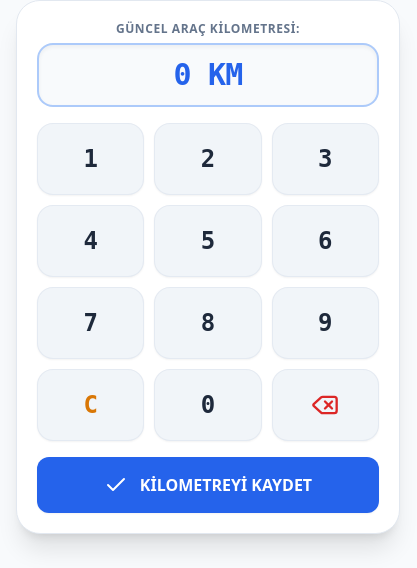
Test: HiNumpad › handles key presses and updates display
Press '5', then '0', then '0'
Step 1. Click the button "5" → (208, 241), box [154, 205, 262, 277]
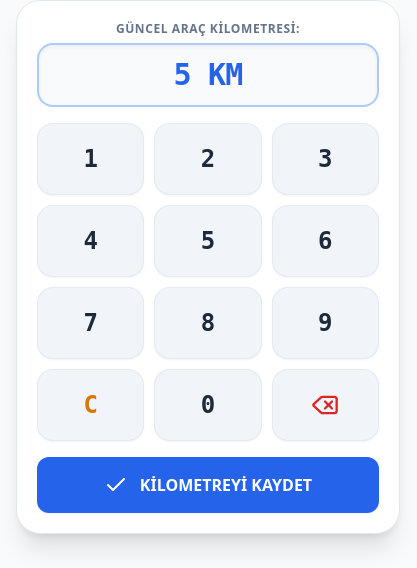
Step 2. Click the button "0" → (208, 405), box [154, 369, 262, 441]
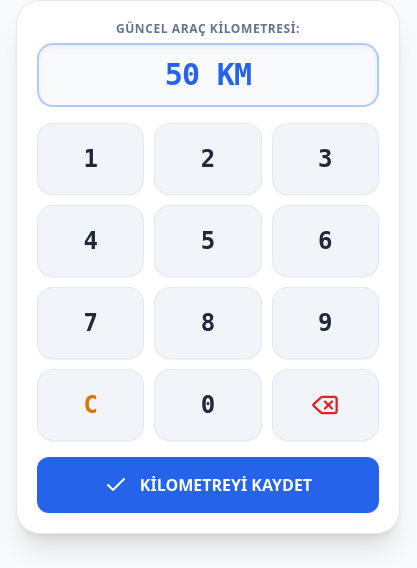
Step 3. Click the button "0" → (208, 405), box [154, 369, 262, 441]
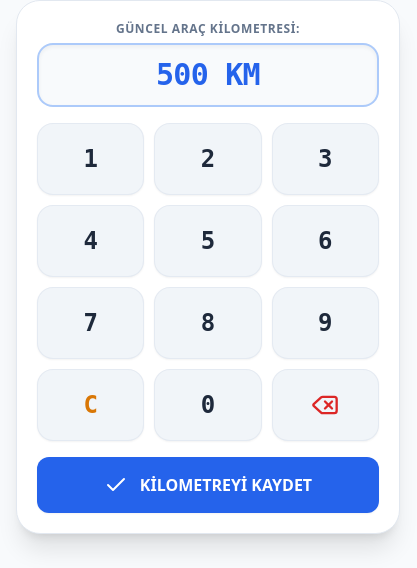
Result: the text "500 KM" is shown at [156, 57, 260, 93]
